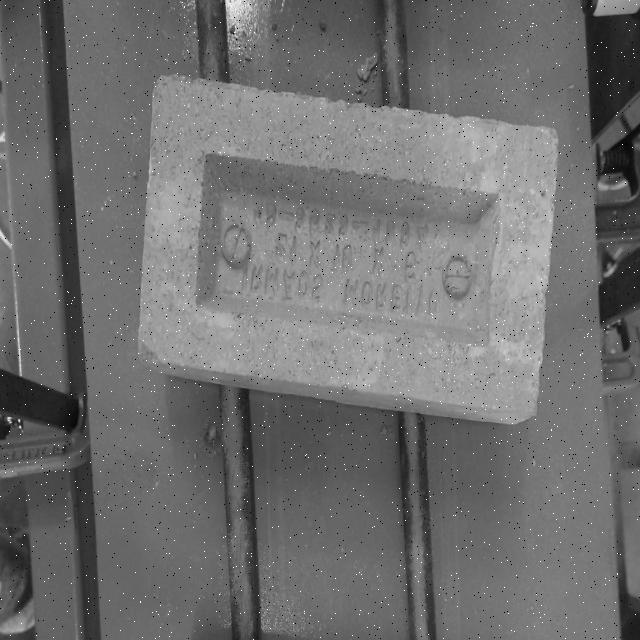bricks: (137, 68, 561, 428)
